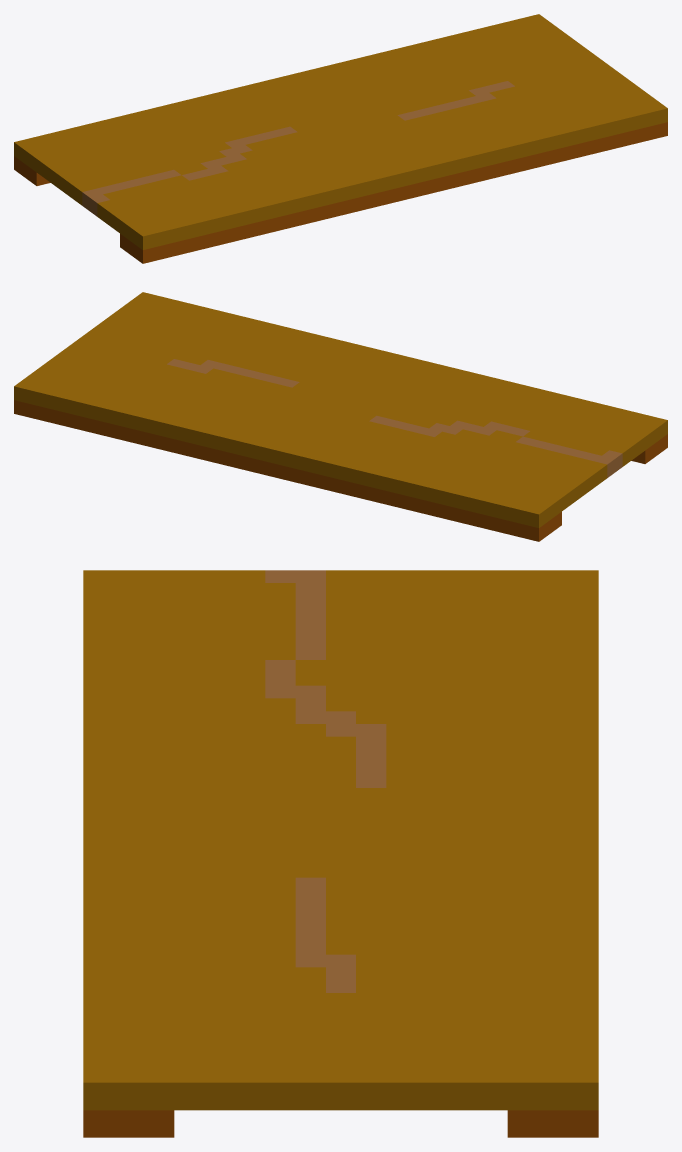
The model's file is part_of_roofroof.obj.
The picture shows the model from 3 angles, top to bottom: view 1: azimuth 30°, elevation 25°; view 2: azimuth 150°, elevation 25°; view 3: azimuth 270°, elevation 25°; orthographic projection. The views are drawn at different scales.
Size of the model in its own units: 4 by 0.2 by 1.7.
Materials: 1 (1 with a texture image).
